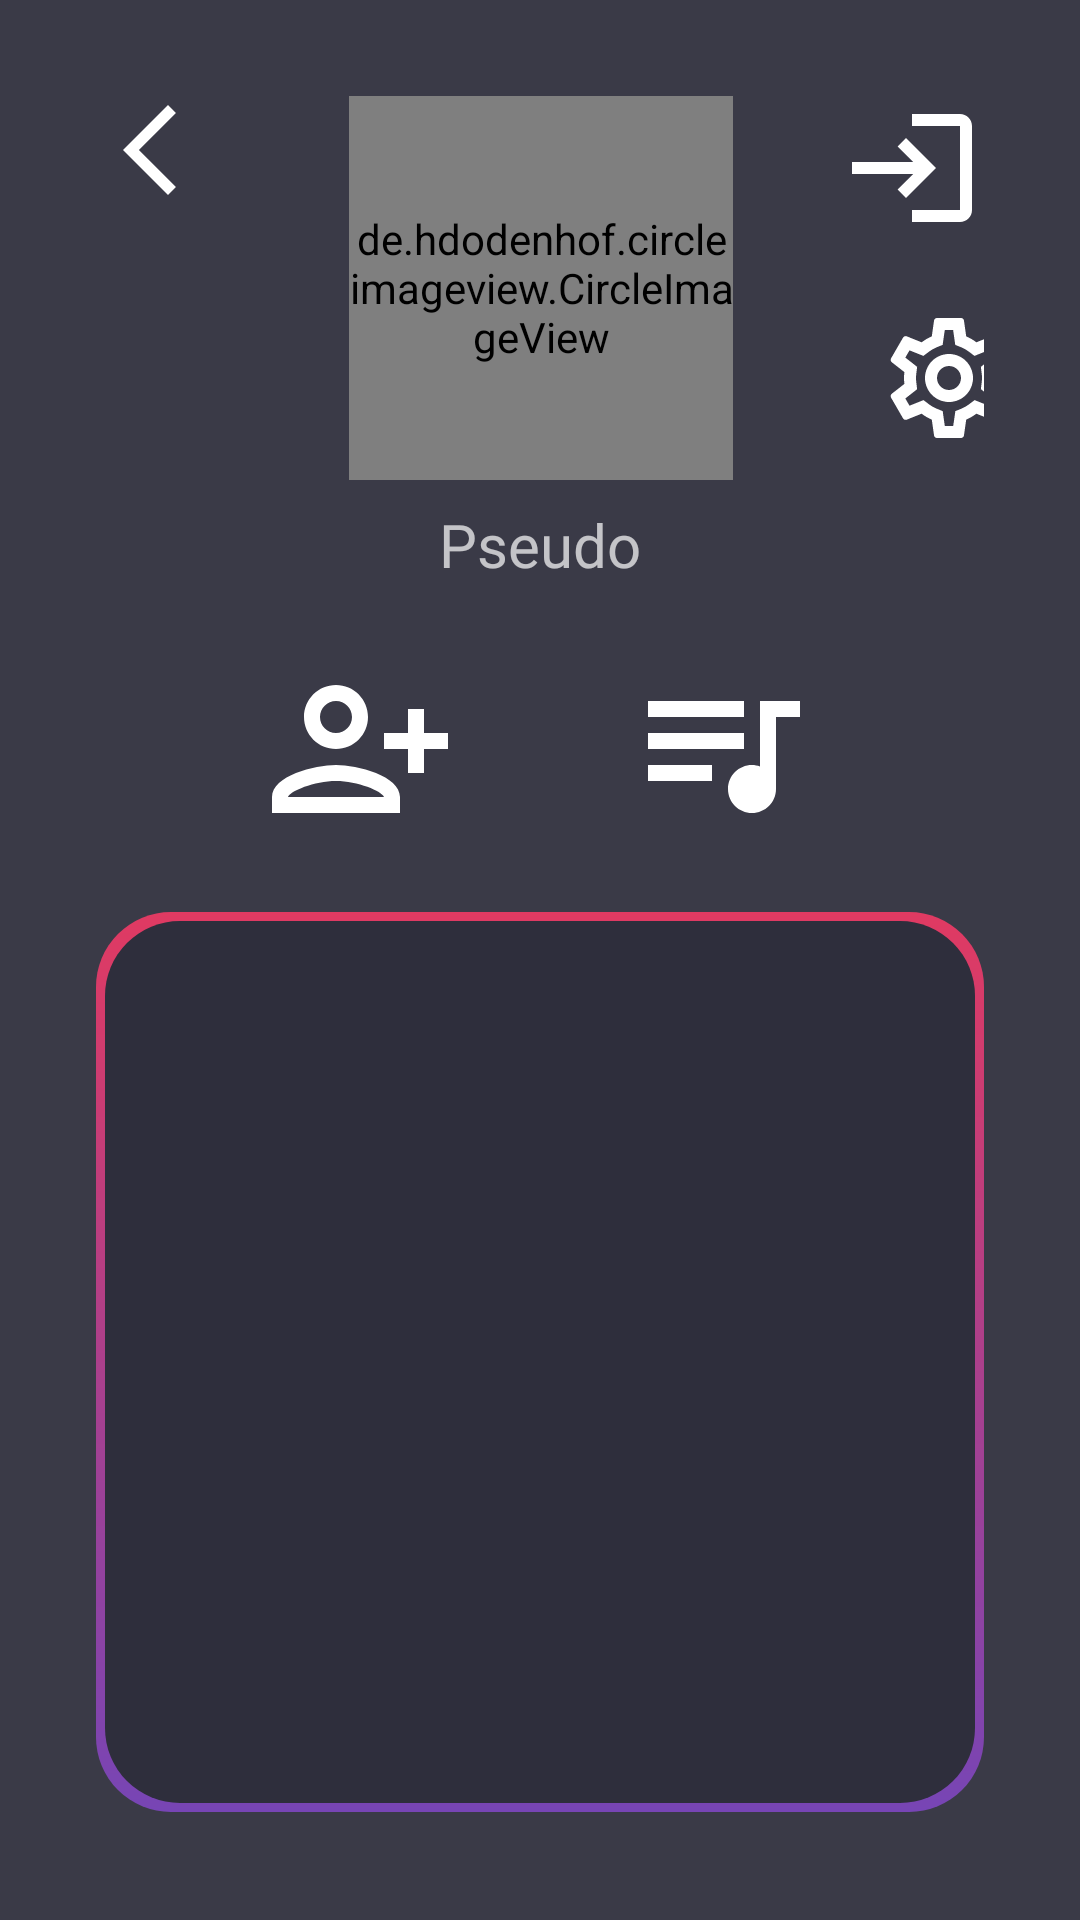

Screen size 1080x1920. Icon name, then its box in pixels as box=[x1, y1, x2, y2]:
add friends: box=[272, 685, 448, 813]
back icon: box=[123, 105, 176, 195]
music list icon: box=[648, 701, 800, 813]
settings icon: box=[890, 318, 984, 438]
